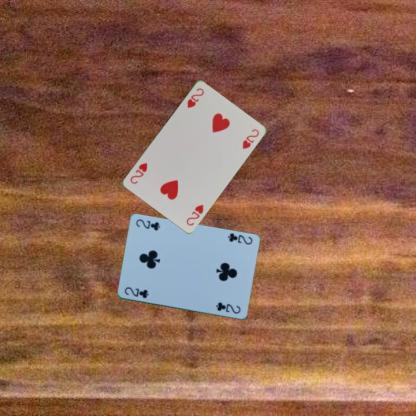2c: (122, 284, 150, 300), (225, 231, 253, 246)
2h: (184, 85, 205, 109), (184, 201, 204, 226)
